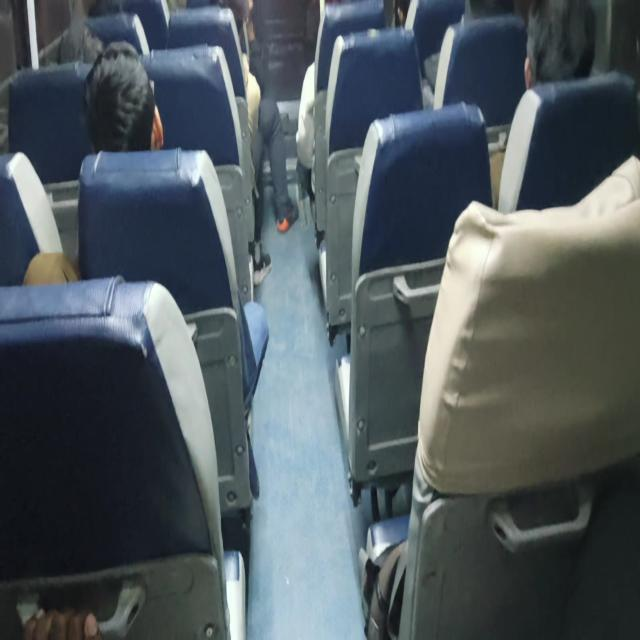person: (22, 39, 268, 498), (23, 39, 164, 285), (496, 0, 599, 212), (218, 0, 299, 234), (82, 39, 164, 153), (38, 0, 104, 66)
